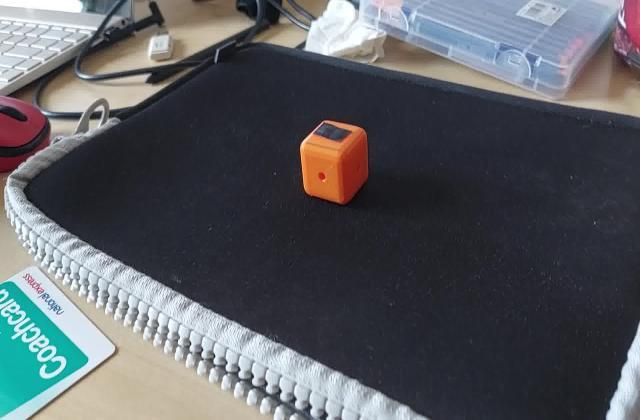black: (308, 122, 356, 144)
cube: (298, 114, 372, 206)
